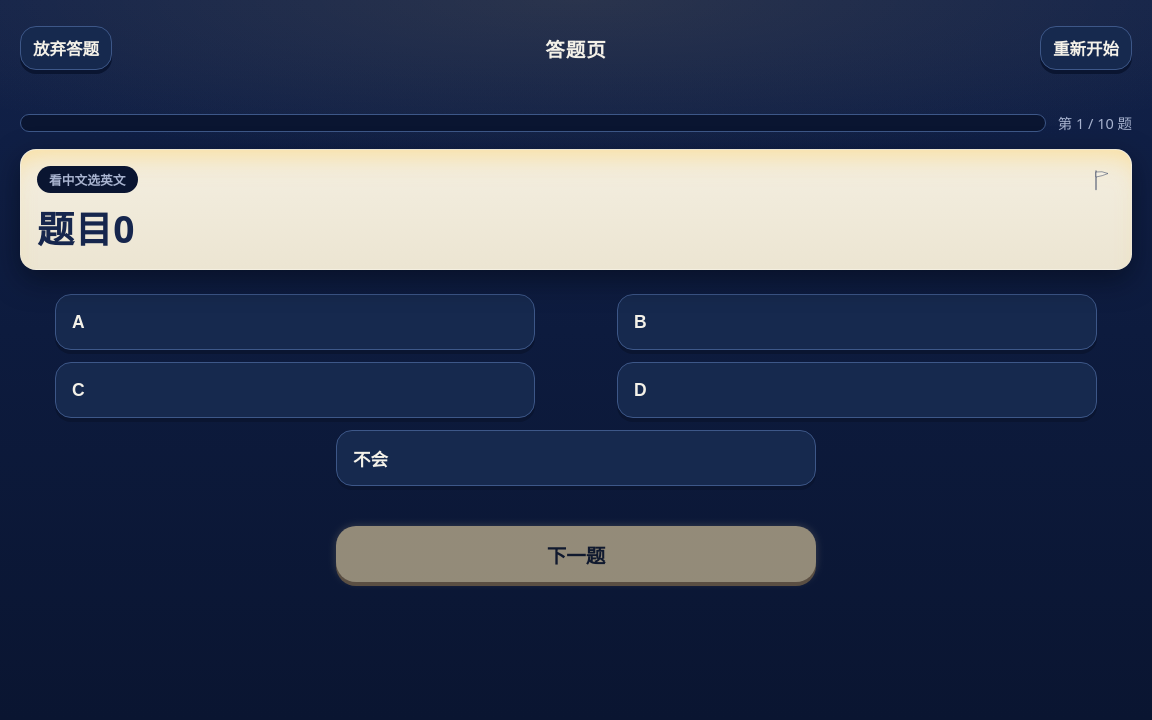
Test: T5 AC-R15-3-2/3-3/3-4 Quiz 三态 + 反馈（DOM） › AC-R15-3-4 答错：选中 .wrong、正确项 .reveal、其余 disabled、feedback 图标存在
Click the button with class "star-option" showing "A". click: [78, 322]
box: [55,294,535,350]
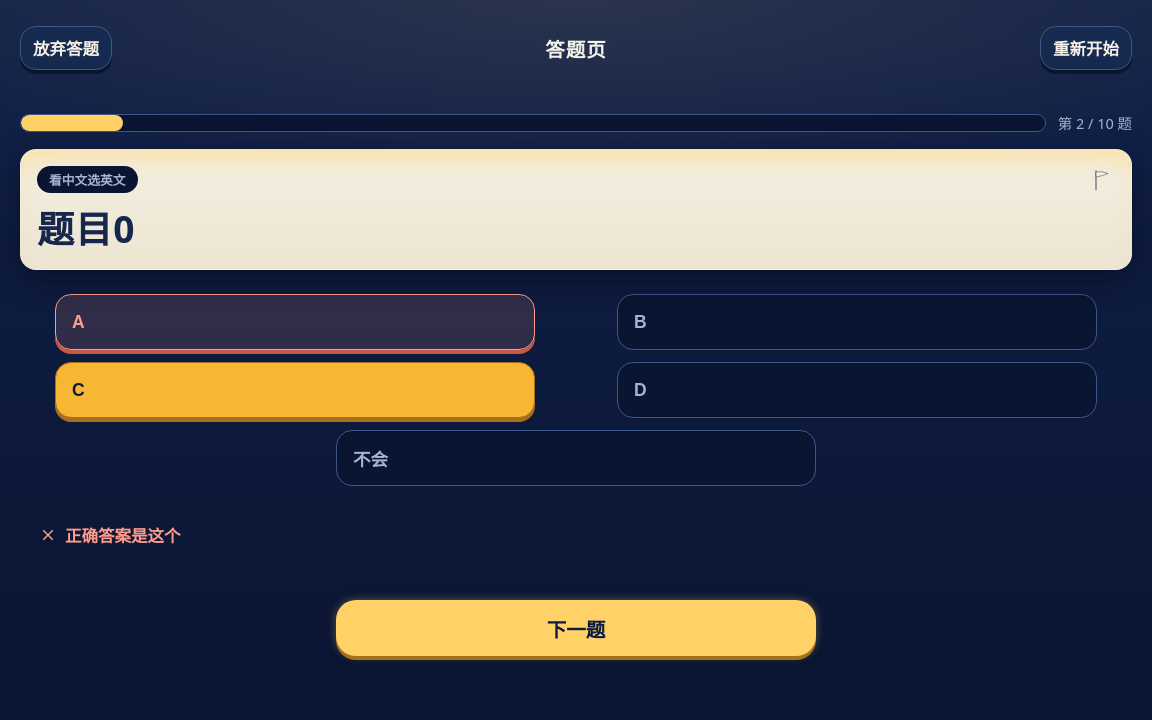
expect the button with class "star-option" showing "B" is disabled: met, box [617,294,1097,350]
expect the button with class "star-option" showing "D" is disabled: met, box [617,362,1097,418]
expect the button with class "star-option" showing "不会" is disabled: met, box [336,430,816,486]
